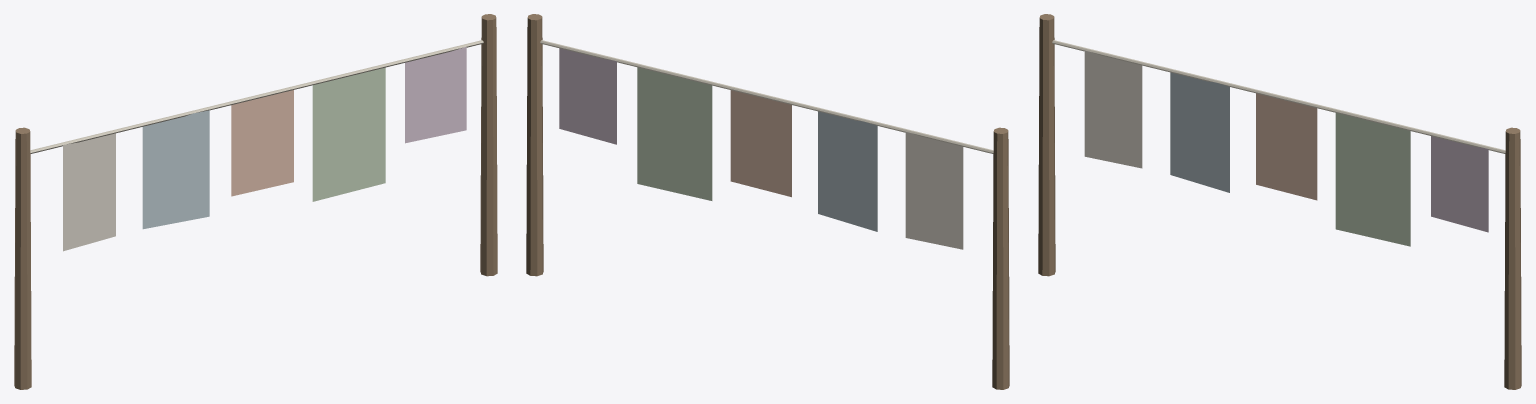
Rendered from tendedero.fbx.
3 views of the same model, side by side, from view 1: azimuth 30°, elevation 25°; view 2: azimuth 150°, elevation 25°; view 3: azimuth 330°, elevation 25° (orthographic).
Parts seen in each view (by area): view 1: cloth3, cloth1, cloth2, cloth0, cloth4, linePost, linePost_02, rope; view 2: cloth3, cloth1, cloth0, cloth2, cloth4, linePost, linePost_02, rope; view 3: cloth3, cloth1, cloth0, cloth2, cloth4, linePost_02, linePost, rope.
Part boxes in pixels (x1,y1,x2,y2): cloth3: (312, 67, 385, 201); cloth1: (142, 110, 209, 229); cloth2: (231, 90, 293, 196); cloth0: (63, 133, 115, 251); cloth4: (405, 47, 466, 143); linePost: (14, 127, 31, 389); linePost_02: (480, 14, 497, 276); rope: (30, 40, 483, 153); cloth3: (637, 67, 712, 200); cloth1: (818, 111, 877, 231); cloth0: (905, 132, 963, 249); cloth2: (730, 90, 791, 197); cloth4: (559, 48, 616, 144); linePost: (992, 127, 1009, 389); linePost_02: (526, 14, 543, 276); rope: (540, 40, 993, 153); cloth3: (1335, 113, 1410, 246); cloth1: (1170, 72, 1229, 192); cloth0: (1084, 50, 1142, 168); cloth2: (1256, 93, 1317, 200); cloth4: (1431, 136, 1488, 232); linePost_02: (1504, 127, 1521, 389); linePost: (1038, 14, 1055, 276); rope: (1052, 40, 1505, 153).
Size of the model in its own units: 4.34 by 2.2 by 0.14.
